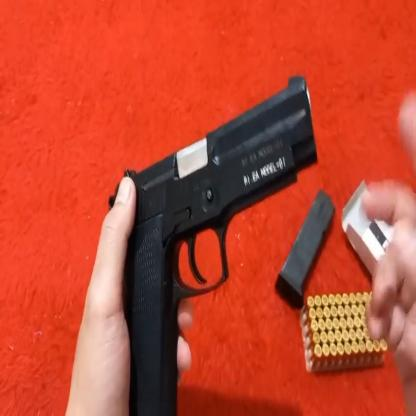handgun: (102, 64, 326, 416)
